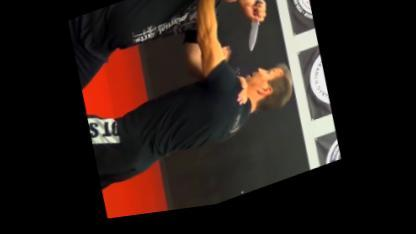knife: (237, 1, 278, 61)
